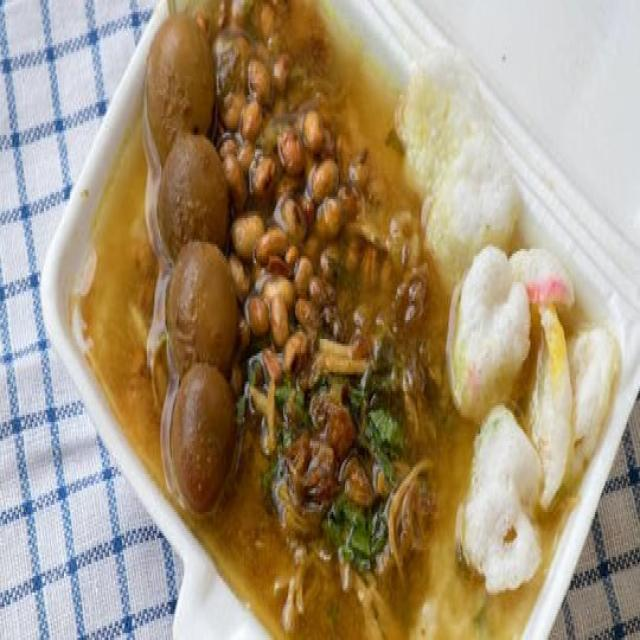bubur ayam: (82, 9, 584, 637)
